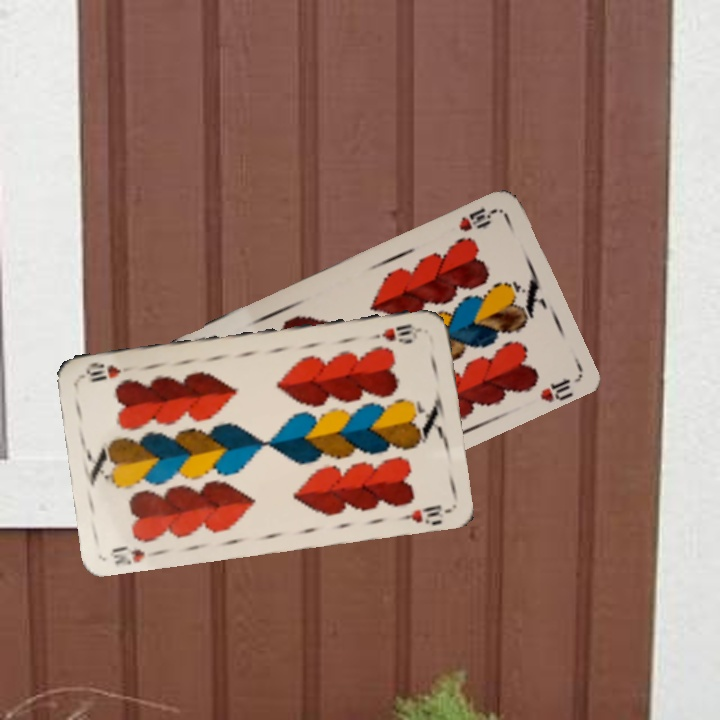H10: (105, 542, 163, 568), (366, 320, 424, 344), (455, 203, 499, 234)
